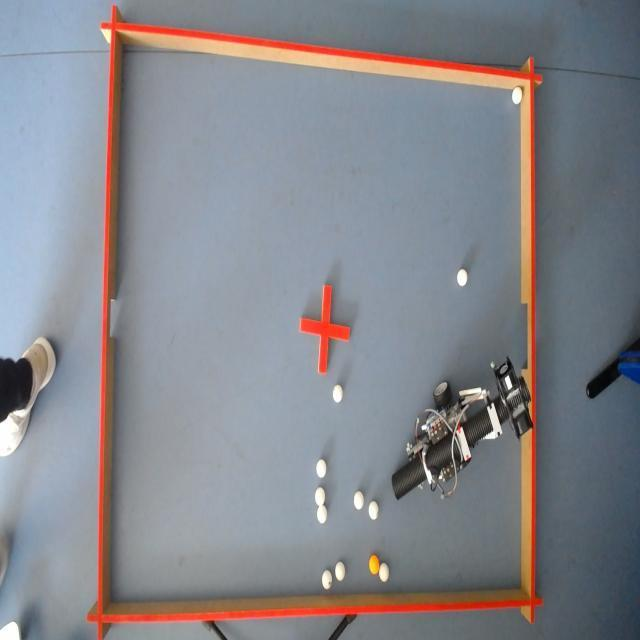orange: (369, 552, 379, 572)
robot: (396, 360, 528, 500)
white: (512, 86, 524, 107), (353, 490, 364, 512), (378, 562, 388, 584), (368, 502, 379, 522), (316, 459, 326, 480), (320, 570, 330, 591), (314, 487, 324, 508), (456, 266, 466, 286), (335, 562, 345, 581), (316, 504, 325, 524), (332, 386, 342, 404)
